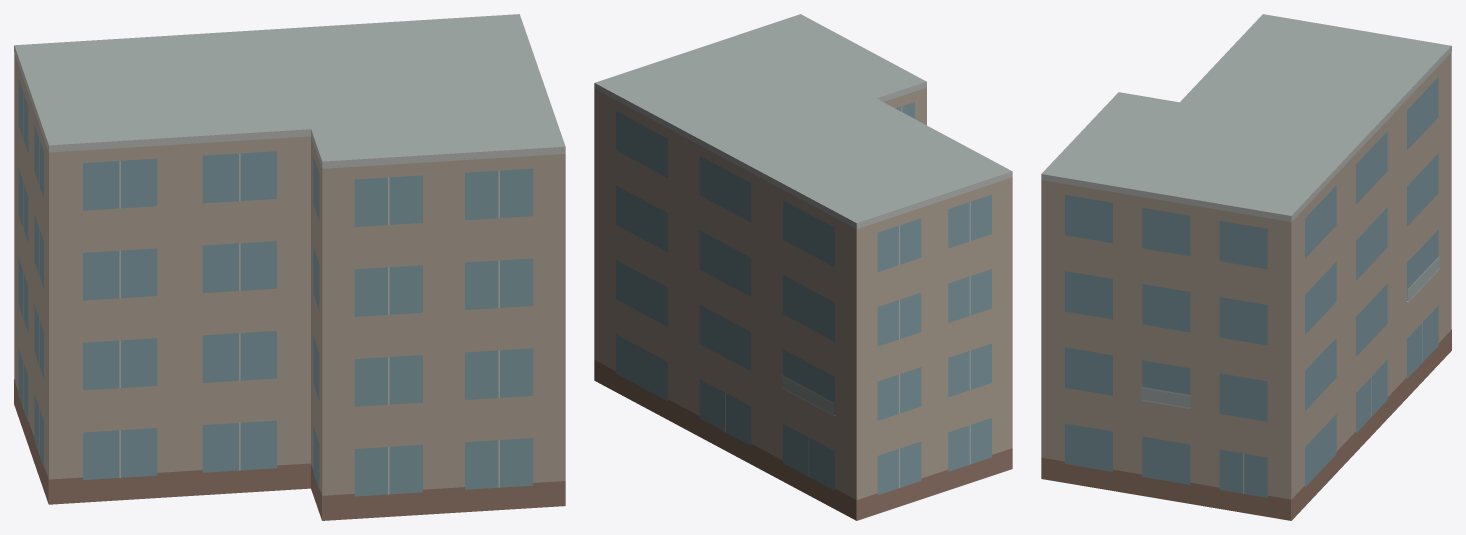
Rendered from residential-2717be13-fee1-4d5d-bfc8-bca886e2a352.glb.
3 views of the same model, side by side, from view 1: azimuth 30°, elevation 25°; view 2: azimuth 150°, elevation 25°; view 3: azimuth 270°, elevation 25° (orthographic). The views are drawn at different scales.
Visible parts, largest first — view 1: residential-2717be13-fee1-4d5d-bfc8-bca886e2a352.tmp; view 2: residential-2717be13-fee1-4d5d-bfc8-bca886e2a352.tmp; view 3: residential-2717be13-fee1-4d5d-bfc8-bca886e2a352.tmp.
Boxes of the visible parts, x1,y1,x2,y2 form: residential-2717be13-fee1-4d5d-bfc8-bca886e2a352.tmp: (14, 14, 565, 520); residential-2717be13-fee1-4d5d-bfc8-bca886e2a352.tmp: (594, 14, 1012, 520); residential-2717be13-fee1-4d5d-bfc8-bca886e2a352.tmp: (1041, 14, 1451, 520).
Bounding box in the file's own units: 17.34 × 12.2 × 14.89.
